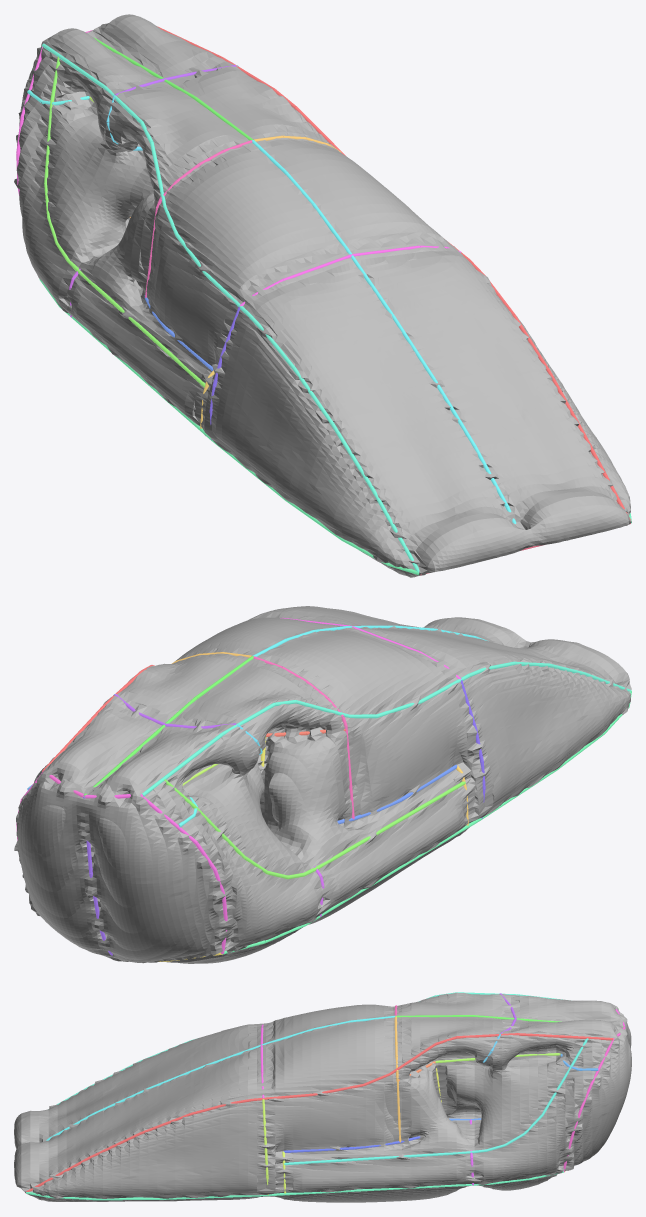
File: t2f_hand_vacuum.gltf
3 views of the same model, one above another, from view 1: azimuth 30°, elevation 25°; view 2: azimuth 150°, elevation 25°; view 3: azimuth 270°, elevation 25° (orthographic). The views are drawn at different scales.
Size of the model in its own units: 0.3349 by 0.2821 by 0.9423.
